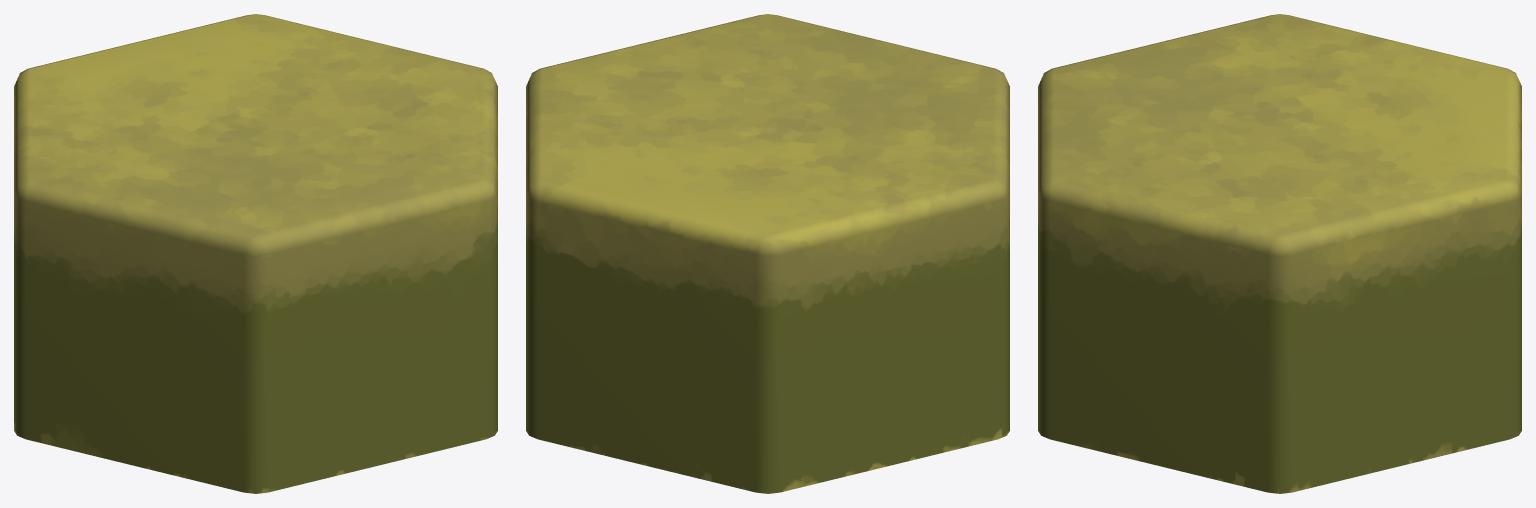
The model's file is Hexagon_Grass_02.fbx.
3 views of the same model, side by side, from view 1: azimuth 30°, elevation 25°; view 2: azimuth 150°, elevation 25°; view 3: azimuth 270°, elevation 25° (orthographic).
Parts seen in each view (by area): view 1: Hexagon_Grass_02; view 2: Hexagon_Grass_02; view 3: Hexagon_Grass_02.
Boxes of the visible parts, x1,y1,x2,y2 form: Hexagon_Grass_02: (14,14,497,493); Hexagon_Grass_02: (526,14,1009,493); Hexagon_Grass_02: (1038,14,1521,493).
Size of the model in its own units: 227 by 115 by 199.
